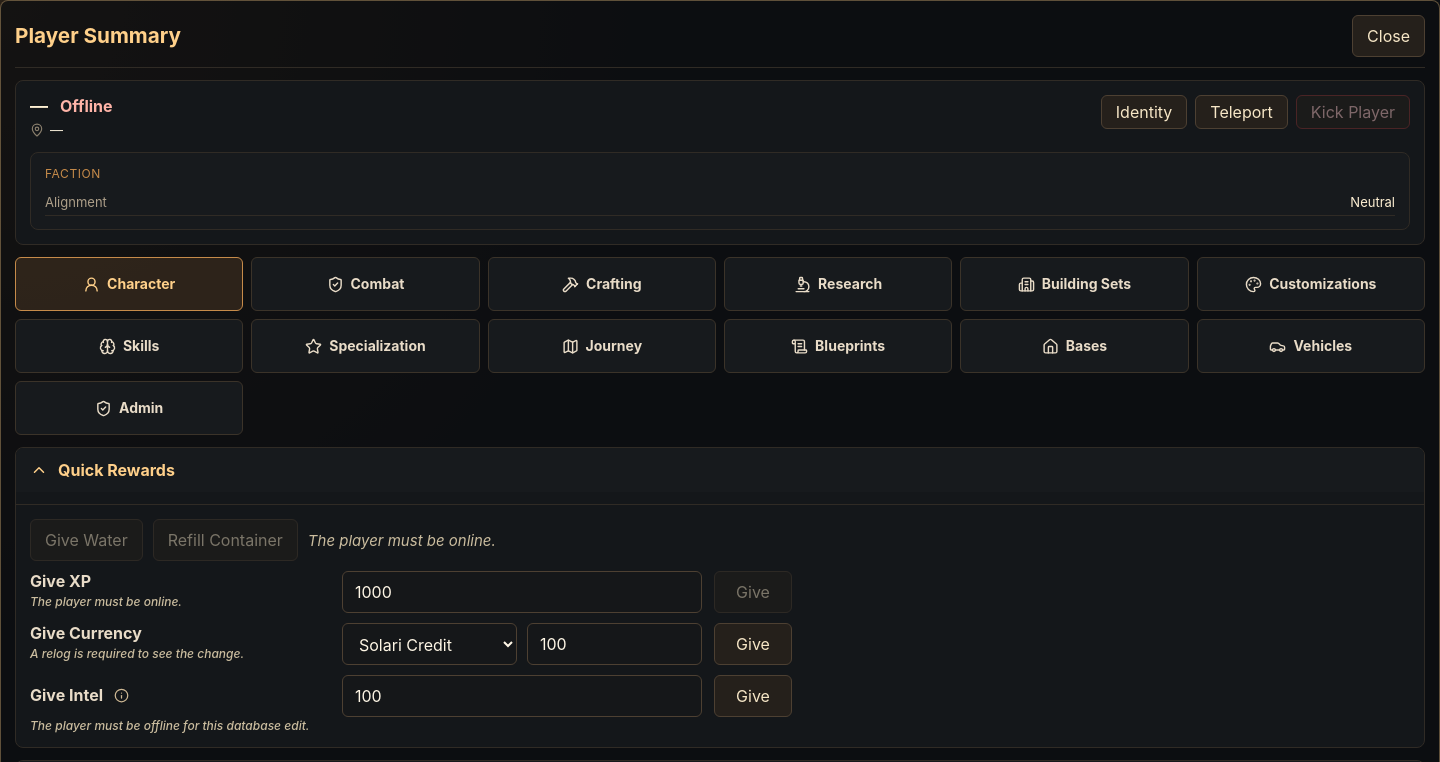
it: CharacterAdminUI Tank catalog › shows Regis Tank and six presets when enabled, even without a profile map
This screenshot has width=1440, height=762.
Click the button "Admin" at (129, 408), box left=15, top=381, right=243, bottom=435
(page scrolled)
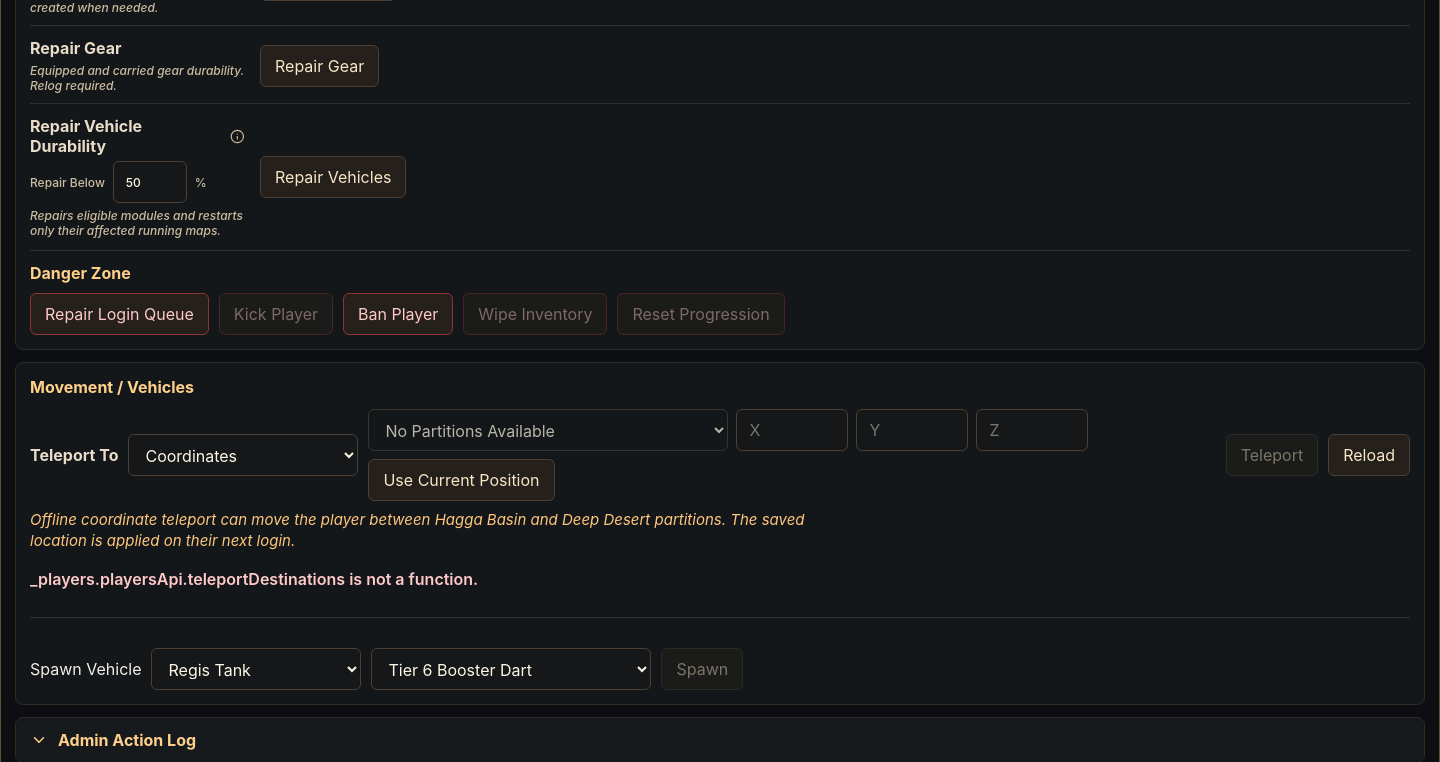
Expected: the button "Spawn" is disabled, left=662, top=648, right=743, bottom=690
